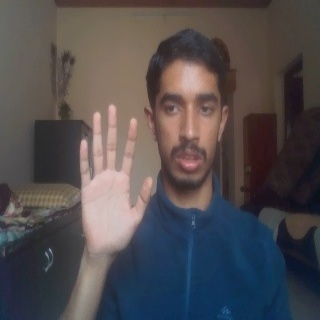Face: (142, 26, 233, 196)
Hello: (75, 102, 154, 255)
